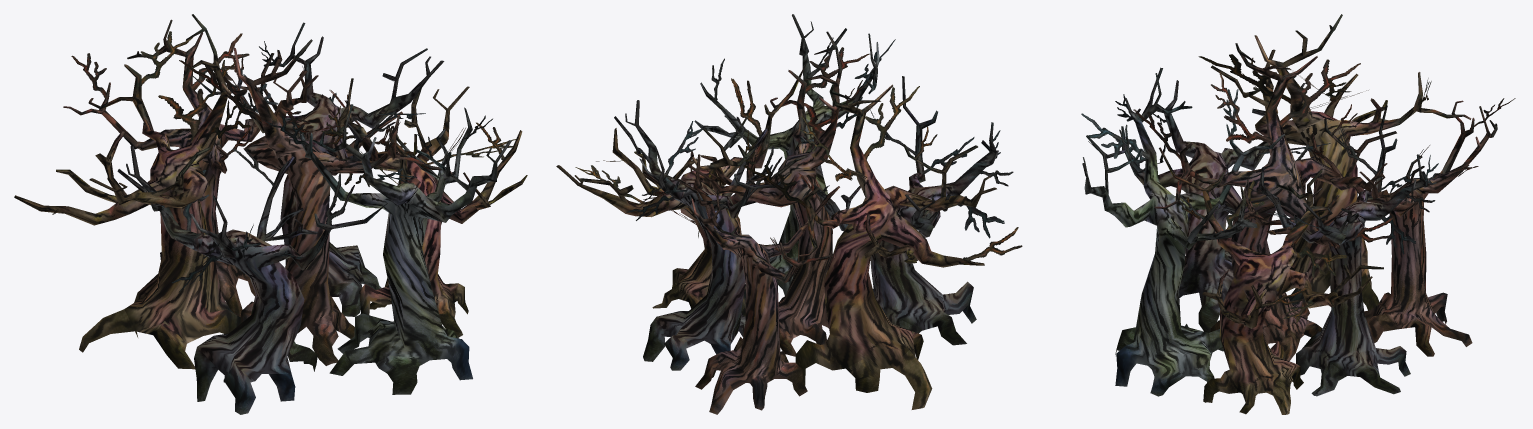
File: FOL_DeadTreeGroup.FBX
3 views of the same model, side by side, from view 1: azimuth 30°, elevation 25°; view 2: azimuth 150°, elevation 25°; view 3: azimuth 270°, elevation 25° (orthographic). The views are drawn at different scales.
Parts seen in each view (by area): view 1: FOL_DeadTreeGroup02, FOL_DeadTreeGroup06, FOL_DeadTreeGroup07, FOL_DeadTreeGroup01, FOL_DeadTreeGroup04, FOL_DeadTreeGroup05, FOL_DeadTreeGroup03; view 2: FOL_DeadTreeGroup02, FOL_DeadTreeGroup01, FOL_DeadTreeGroup04, FOL_DeadTreeGroup03, FOL_DeadTreeGroup07, FOL_DeadTreeGroup05, FOL_DeadTreeGroup06; view 3: FOL_DeadTreeGroup06, FOL_DeadTreeGroup05, FOL_DeadTreeGroup01, FOL_DeadTreeGroup04, FOL_DeadTreeGroup02, FOL_DeadTreeGroup03, FOL_DeadTreeGroup07.
Part boxes in pixels (box(x1,y1,x2,y2)): FOL_DeadTreeGroup02: box(14, 14, 250, 369); FOL_DeadTreeGroup06: box(265, 104, 511, 394); FOL_DeadTreeGroup07: box(117, 145, 387, 414); FOL_DeadTreeGroup01: box(179, 39, 452, 365); FOL_DeadTreeGroup04: box(192, 22, 444, 316); FOL_DeadTreeGroup05: box(321, 78, 527, 337); FOL_DeadTreeGroup03: box(63, 19, 318, 316); FOL_DeadTreeGroup02: box(743, 84, 1022, 409); FOL_DeadTreeGroup01: box(643, 31, 871, 356); FOL_DeadTreeGroup04: box(614, 100, 789, 370); FOL_DeadTreeGroup03: box(654, 154, 839, 414); FOL_DeadTreeGroup07: box(814, 76, 1013, 345); FOL_DeadTreeGroup05: box(556, 64, 806, 316); FOL_DeadTreeGroup06: box(694, 14, 895, 295); FOL_DeadTreeGroup06: box(1081, 73, 1284, 396); FOL_DeadTreeGroup05: box(1159, 147, 1383, 414); FOL_DeadTreeGroup01: box(1133, 43, 1396, 361); FOL_DeadTreeGroup04: box(1248, 105, 1438, 396); FOL_DeadTreeGroup02: box(1198, 14, 1471, 310); FOL_DeadTreeGroup03: box(1310, 98, 1515, 356); FOL_DeadTreeGroup07: box(1088, 67, 1330, 332).
Bounding box in the file's own units: 1311 × 808 × 1078.
